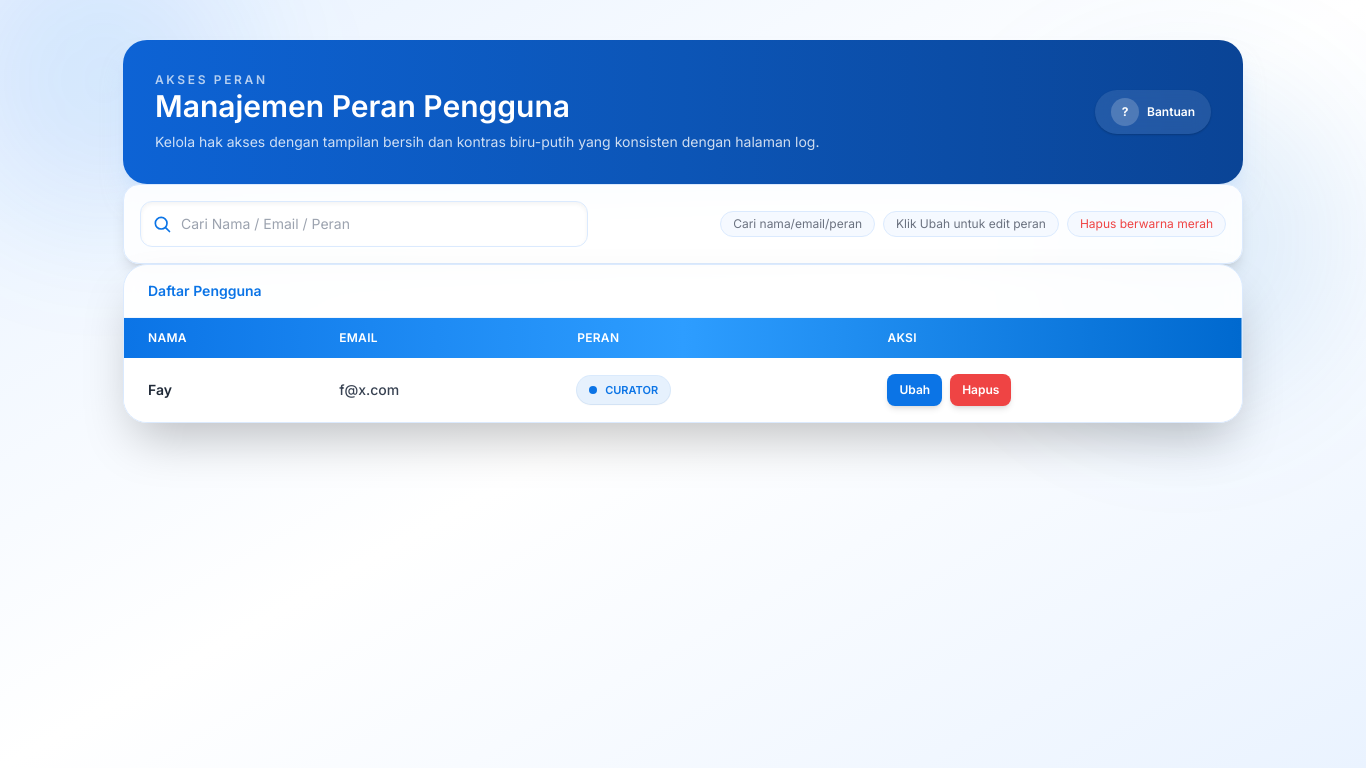
it: Admin role management - coverage targets › shows success toast when saving role
Check: the text "Fay" is shown, box [148,381,172,398]
// open role modal
Click the button "Ubah". click: (915, 390)
box: [888,374,942,406]
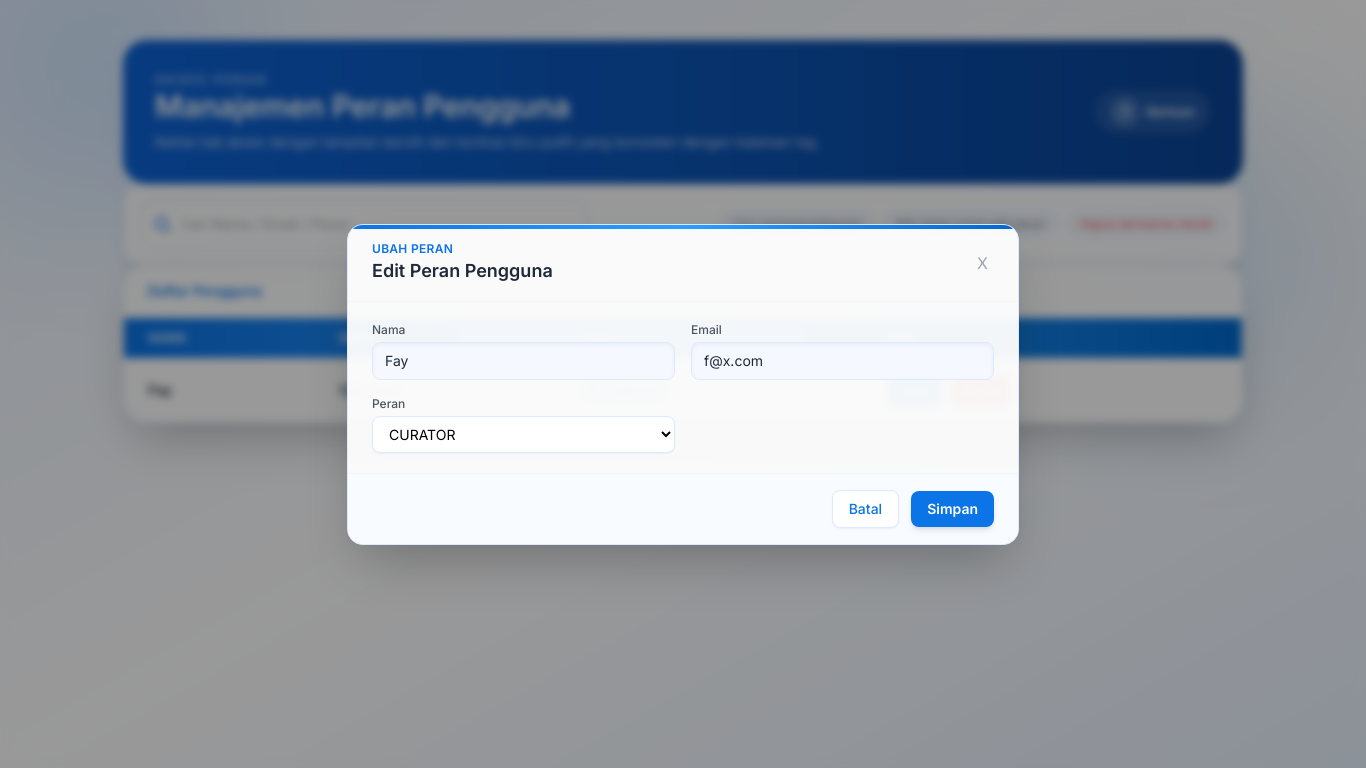
Check: the heading "Edit Peran Pengguna" is shown, box [372,256,553,284]
// click Simpan
Click the button "Simpan". click: (953, 508)
box: [911,490,994,526]
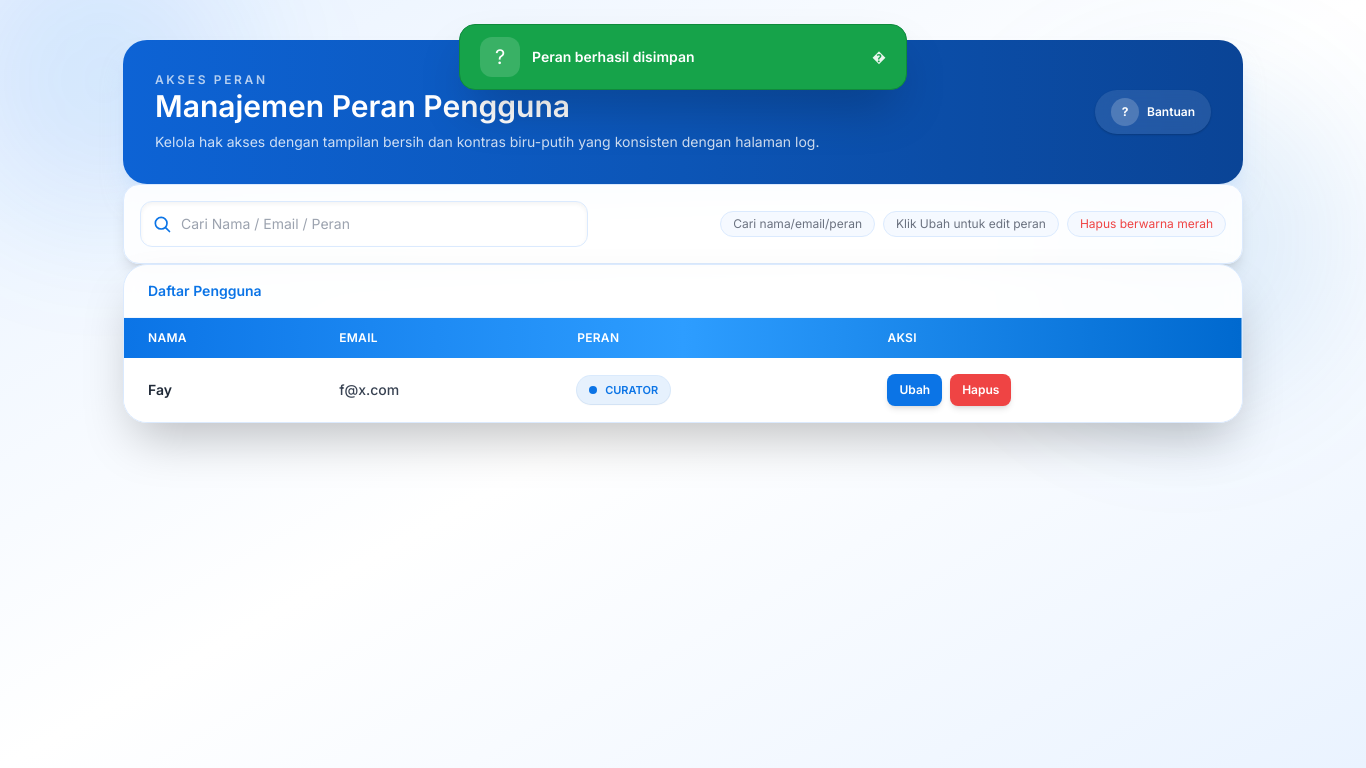
Check: the message "? Peran berhasil disimpan �" is shown, box [459,24,907,90]
Check: the message with test id "toast-success" shows "Peran berhasil disimpan", box [532,48,695,65]
